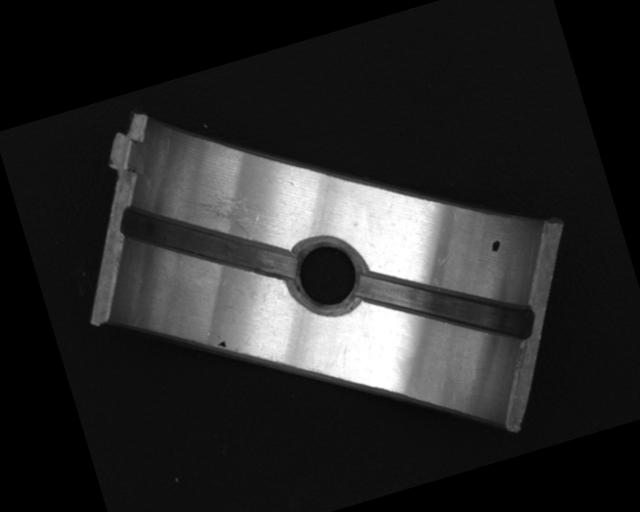blot: (489, 238, 504, 254), (215, 339, 228, 350)
gap: (116, 167, 299, 323), (356, 233, 533, 379)
hole: (282, 229, 372, 323)
scratch: (174, 176, 264, 260)
